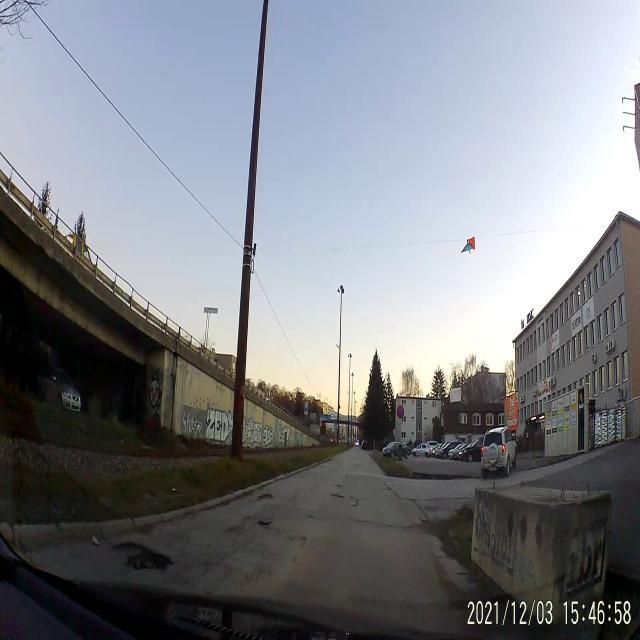Pothole: (114, 536, 173, 576), (250, 490, 276, 508), (254, 516, 276, 534), (331, 491, 346, 504), (353, 496, 362, 512)
